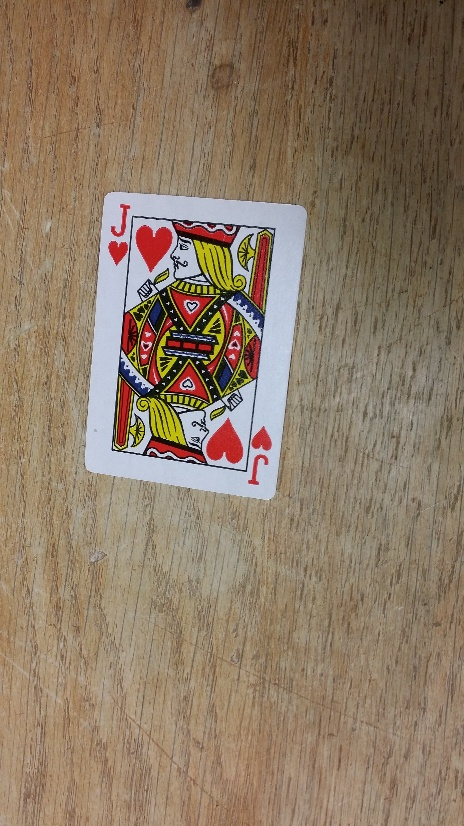Hj: (108, 198, 132, 269), (249, 422, 272, 488)
